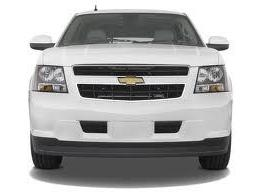Car: (21, 5, 244, 182)
